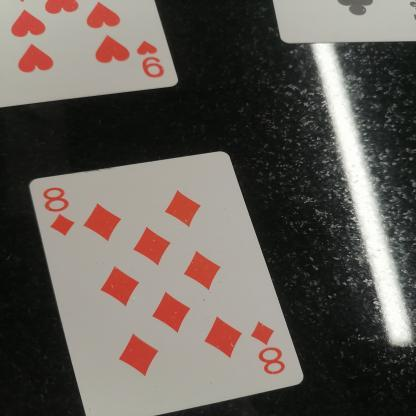8D: (252, 322, 298, 378), (37, 187, 76, 240)
